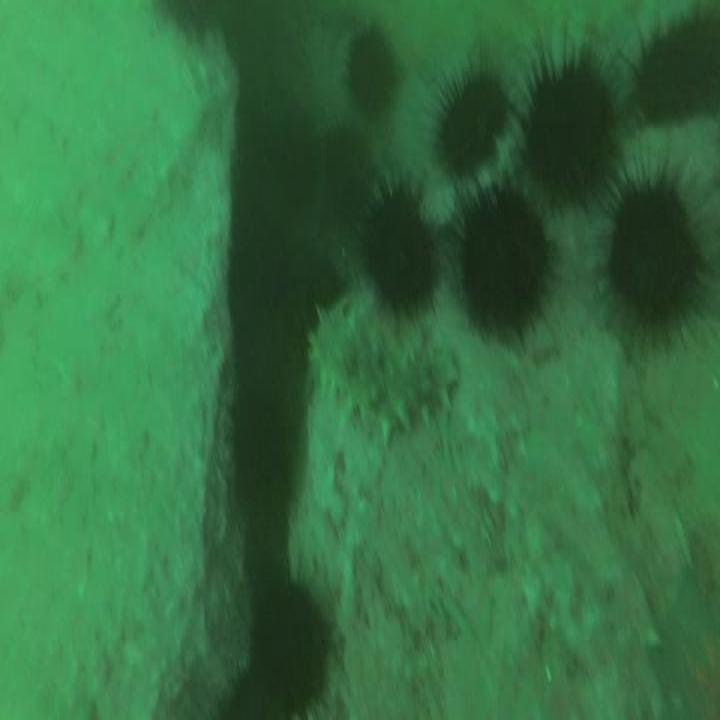echinus: (460, 194, 549, 330), (612, 182, 693, 318), (531, 69, 612, 199), (639, 20, 720, 124), (253, 591, 329, 700), (363, 196, 438, 304), (237, 402, 294, 514), (440, 76, 506, 172), (320, 126, 372, 212), (346, 29, 394, 110)
holothurian: (308, 306, 459, 441)
starfish: (655, 569, 720, 720)
